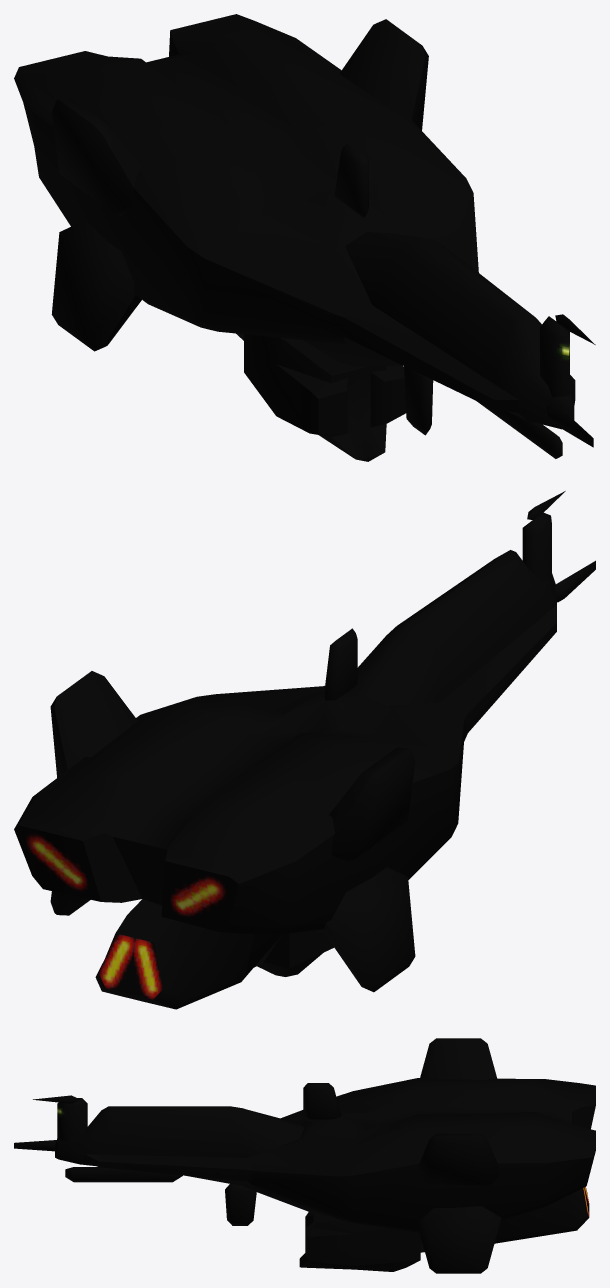
Rendered from tan_sf_intc_01_t2.glb.
The picture shows the model from 3 angles, top to bottom: view 1: azimuth 30°, elevation 25°; view 2: azimuth 150°, elevation 25°; view 3: azimuth 270°, elevation 25°; orthographic projection. The views are drawn at different scales.
Visible parts, largest first — view 1: tan_interceptor_01_LOD0; view 2: tan_interceptor_01_LOD0; view 3: tan_interceptor_01_LOD0.
Boxes of the visible parts, box(x1,y1,x2,y2) form: tan_interceptor_01_LOD0: box(14, 14, 595, 461); tan_interceptor_01_LOD0: box(14, 491, 595, 1009); tan_interceptor_01_LOD0: box(14, 1038, 595, 1273).
Size of what is drawn, in the model's own units: 0.2073 by 0.1802 by 0.5025.
Materials: 1 (1 with a texture image).
